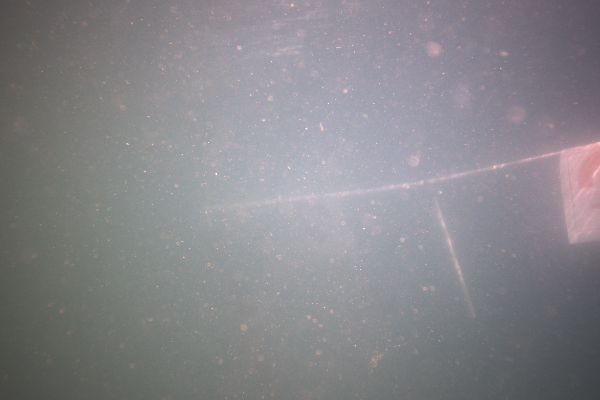gate_rouge: (202, 141, 600, 323), (560, 143, 600, 241)
